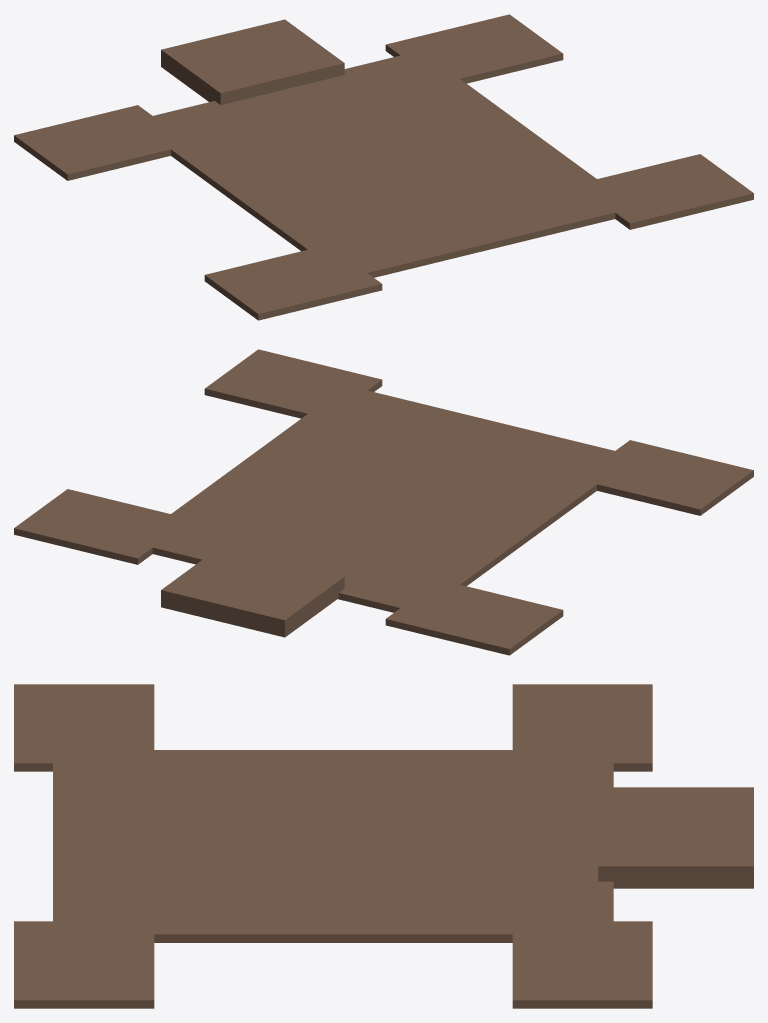
Rendered from haunted_bearrug.glb.
3 views of the same model, one above another, from view 1: azimuth 30°, elevation 25°; view 2: azimuth 150°, elevation 25°; view 3: azimuth 270°, elevation 25° (orthographic). The views are drawn at different scales.
Parts seen in each view (by area): view 1: Haunted_BearRug; view 2: Haunted_BearRug; view 3: Haunted_BearRug.
Boxes of the visible parts, x1,y1,x2,y2 form: Haunted_BearRug: [14, 14, 753, 320]; Haunted_BearRug: [14, 349, 753, 655]; Haunted_BearRug: [14, 684, 753, 1008].
Bounding box in the file's own units: 2.4 × 0.085 × 2.38.
